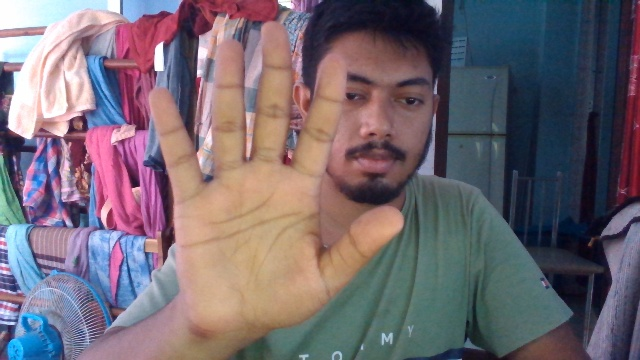hello: (132, 10, 405, 329)
